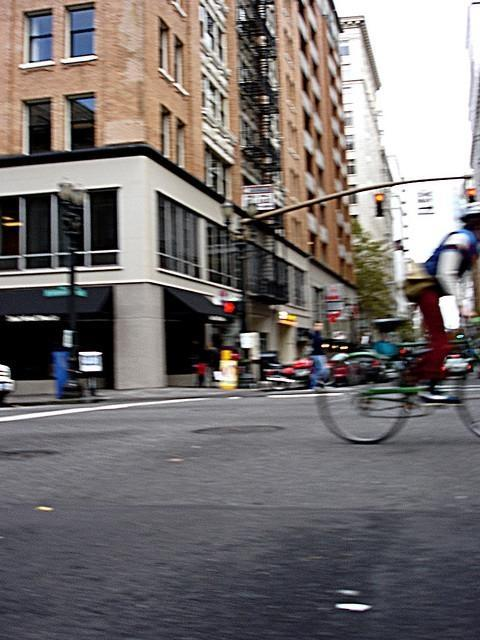bicycle: (312, 310, 480, 446)
car: (370, 352, 427, 368), (0, 362, 18, 403), (443, 354, 472, 374)
motorcycle: (262, 356, 317, 392)
